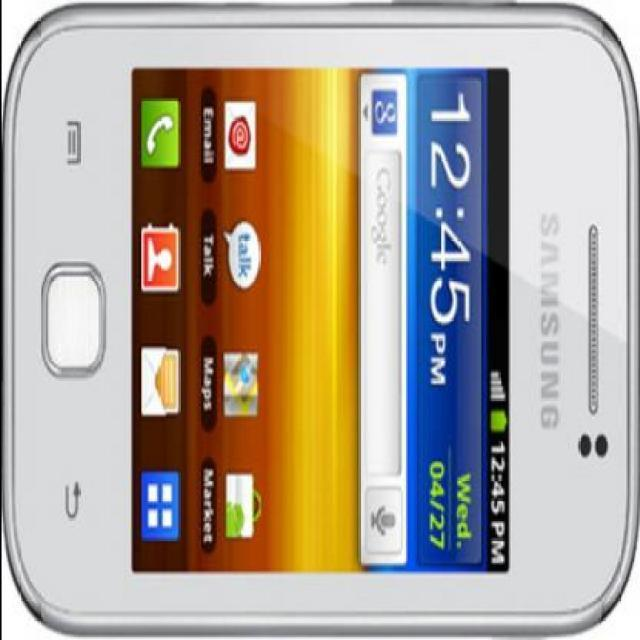phone: (77, 2, 639, 618)
